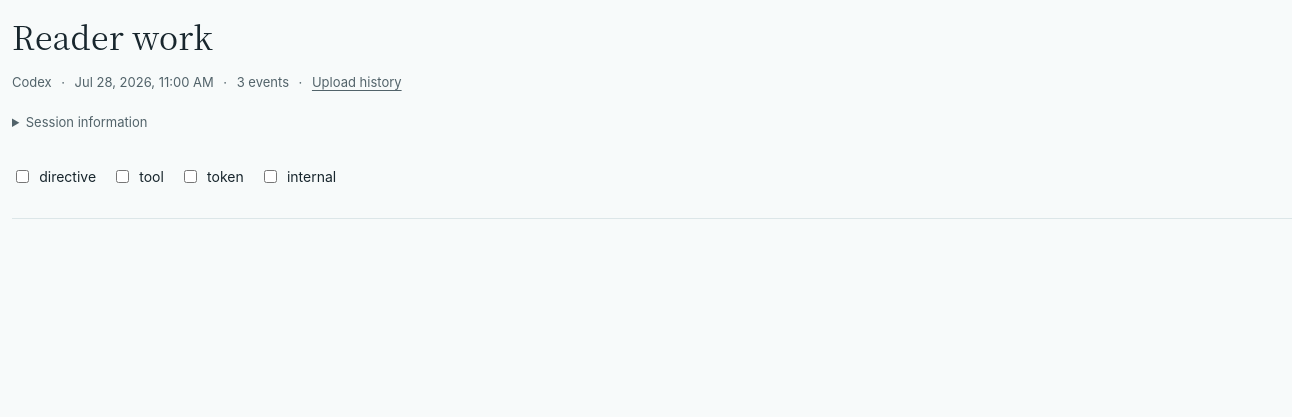
Test case: only displays task metadata inside session information when configured
This screenshot has width=1292, height=417.
expect the text "Task" is not shown: met
expect the text "Cross-project release" is not shown: met
Click the heading "Session information": click(87, 122) left=26, top=114, right=147, bottom=130
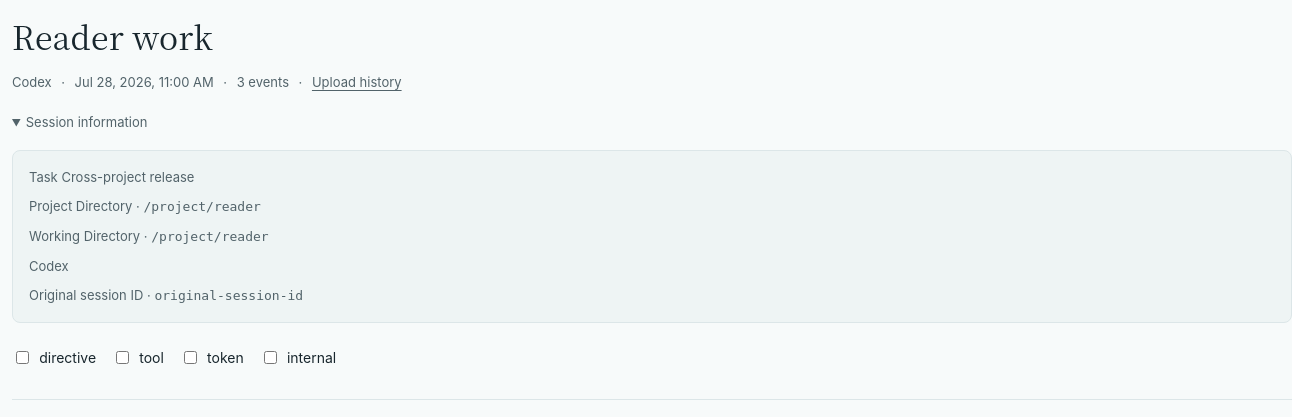
expect the text "Cross-project release" is shown: met, box left=61, top=169, right=194, bottom=185
